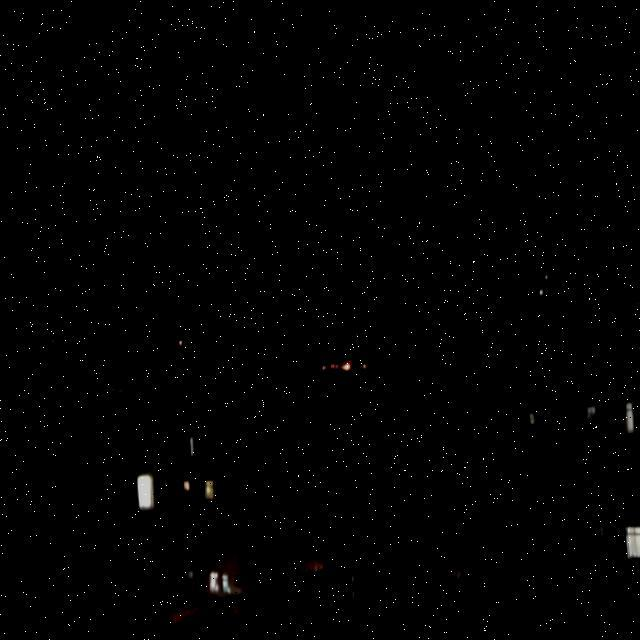Fire: (314, 367, 346, 384)
